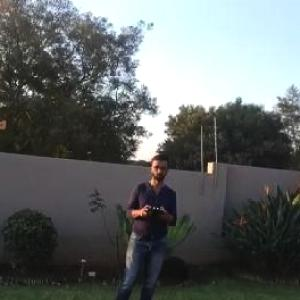follow: (100, 149, 182, 299)
